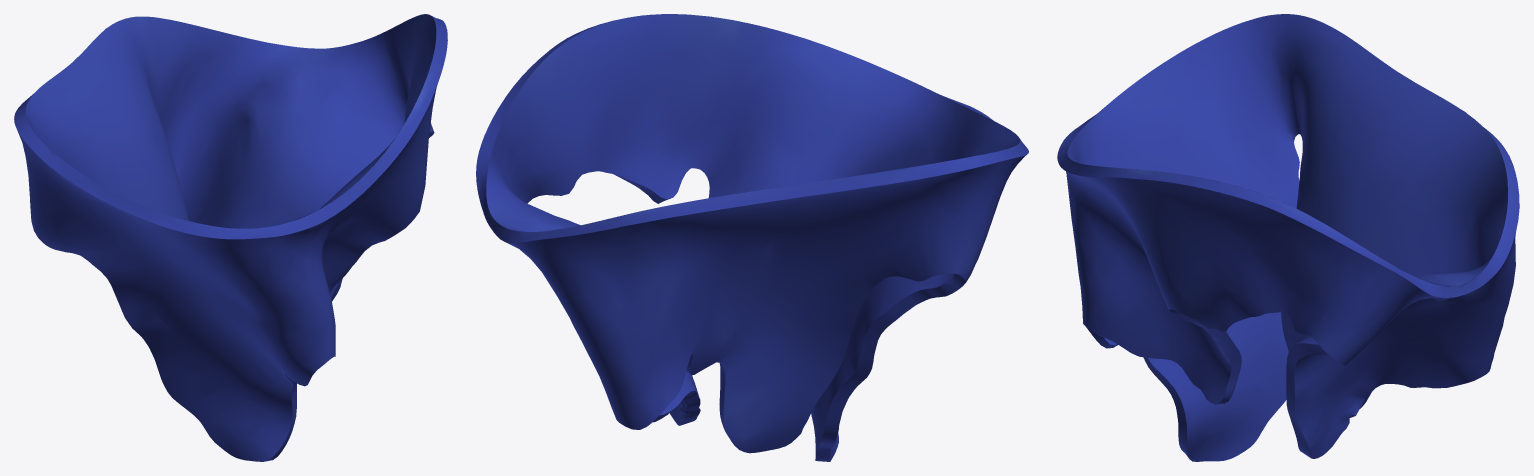
3 renders of one model, left to right at view 1: azimuth 30°, elevation 25°; view 2: azimuth 150°, elevation 25°; view 3: azimuth 270°, elevation 25°, orthographic. The views are drawn at different scales.
Parts seen in each view (by area): view 1: OCS14_maxS_7; view 2: OCS14_maxS_7; view 3: OCS14_maxS_7.
Part boxes in pixels (x1,y1,x2,y2): OCS14_maxS_7: (14,14,447,461); OCS14_maxS_7: (476,14,1028,461); OCS14_maxS_7: (1057,14,1519,461).
Bounding box in the file's own units: 1.45 × 1.17 × 1.32.
